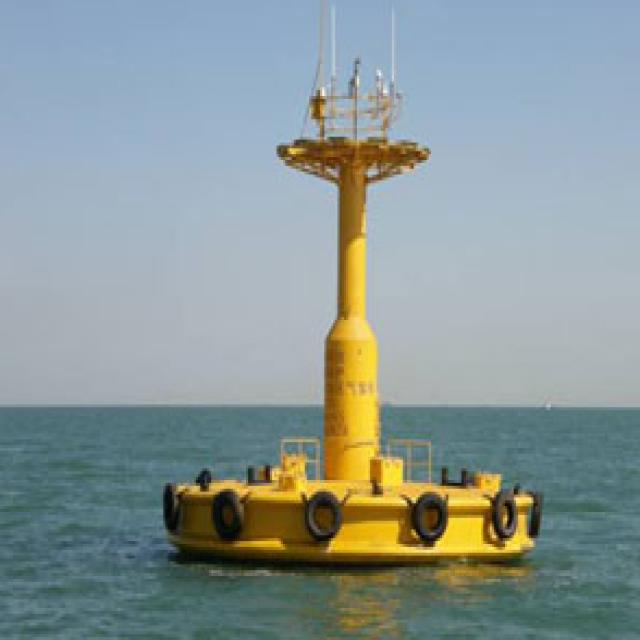buoy: (172, 49, 540, 573)
